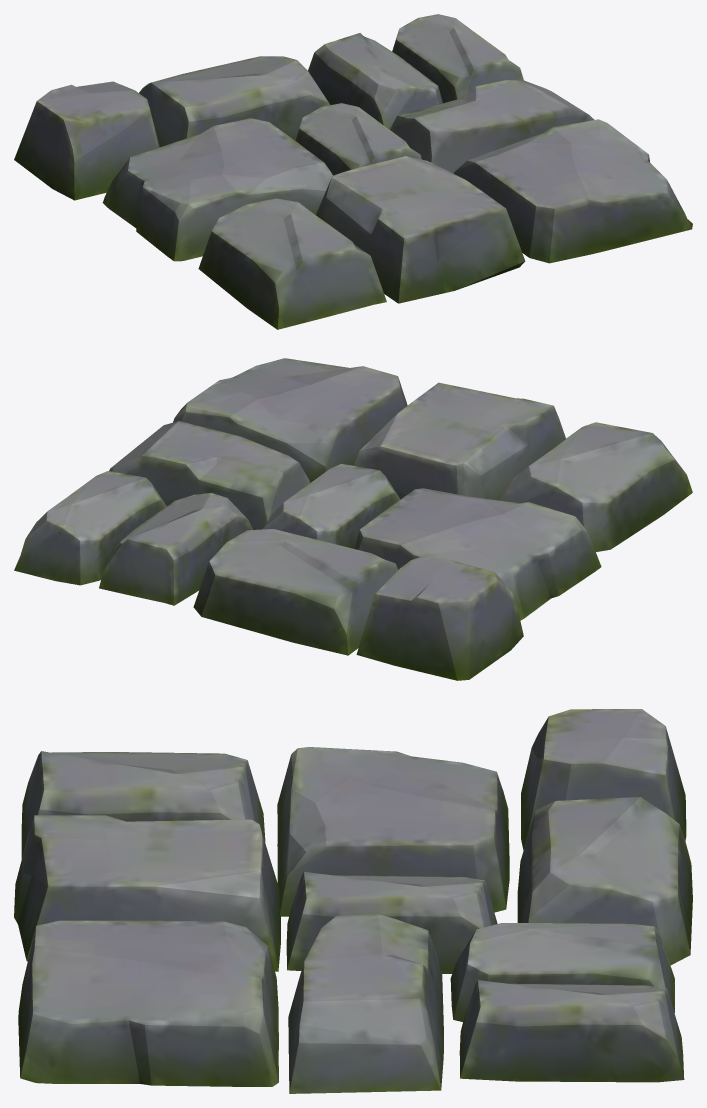
The model's file is sn_rock_path_square_small_1.glb.
The picture shows the model from 3 angles, top to bottom: view 1: azimuth 30°, elevation 25°; view 2: azimuth 150°, elevation 25°; view 3: azimuth 270°, elevation 25°; orthographic projection. The views are drawn at different scales.
Parts seen in each view (by area): view 1: RockPath_Square_Small_1; view 2: RockPath_Square_Small_1; view 3: RockPath_Square_Small_1.
Boxes of the visible parts, box(x1,y1,x2,y2) form: RockPath_Square_Small_1: box(14, 14, 692, 329); RockPath_Square_Small_1: box(14, 358, 692, 680); RockPath_Square_Small_1: box(14, 709, 692, 1093).
Bounding box in the file's own units: 1.02 × 0.1499 × 0.9739.
1 material, 1 textured.
